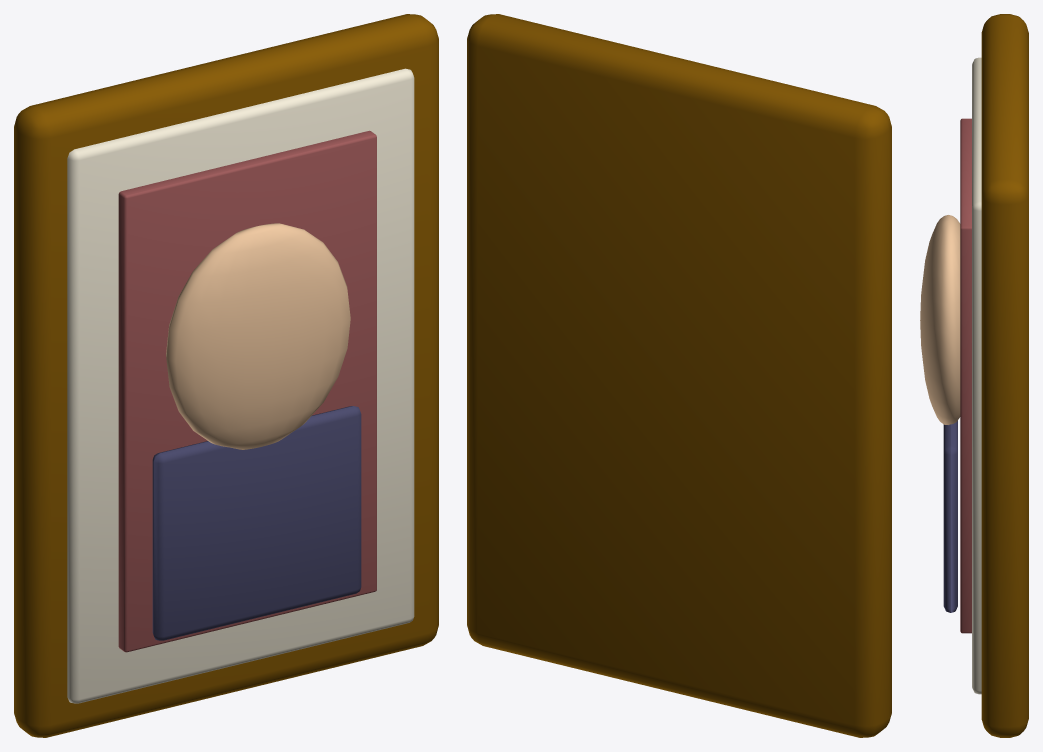
Rendered from picture_portrait.glb.
3 views of the same model, side by side, from view 1: azimuth 30°, elevation 25°; view 2: azimuth 150°, elevation 25°; view 3: azimuth 270°, elevation 25° (orthographic). The views are drawn at different scales.
Visible parts, largest first — view 1: frame, mat, bg, suit, Sphere; view 2: frame; view 3: frame, Sphere, mat, bg, suit.
Boxes of the visible parts, <box> form: frame: <box>14,14,438,737</box>; mat: <box>67,68,414,703</box>; bg: <box>118,130,376,652</box>; suit: <box>152,406,361,640</box>; Sphere: <box>166,223,350,449</box>; frame: <box>467,14,891,737</box>; frame: <box>981,14,1028,737</box>; Sphere: <box>920,215,960,424</box>; mat: <box>972,57,981,694</box>; bg: <box>960,118,971,633</box>; suit: <box>943,420,957,612</box>.
Bounding box in the file's own units: 0.18 × 0.26 × 0.046.
